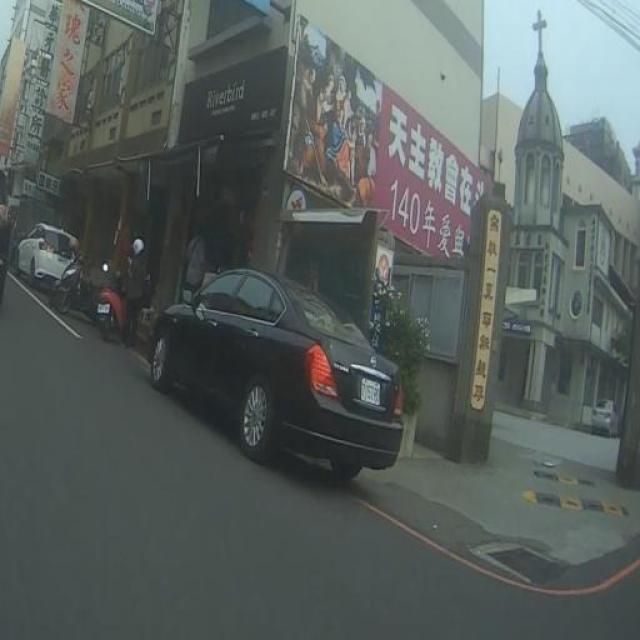illegalparking: (149, 268, 401, 479), (11, 222, 134, 339)
